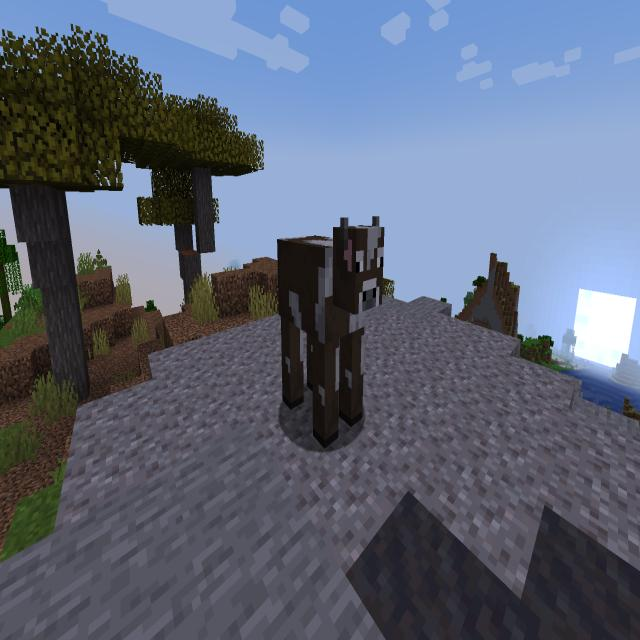cow: (266, 206, 394, 458)
